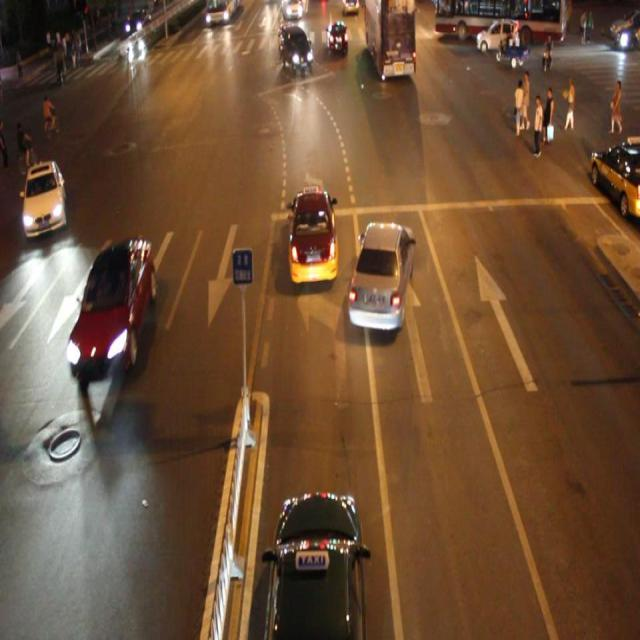car: (265, 489, 366, 640), (69, 239, 154, 377), (346, 219, 414, 329), (287, 188, 339, 284), (22, 160, 67, 238), (280, 28, 314, 75), (326, 21, 348, 56)
van: (364, 1, 415, 76)
